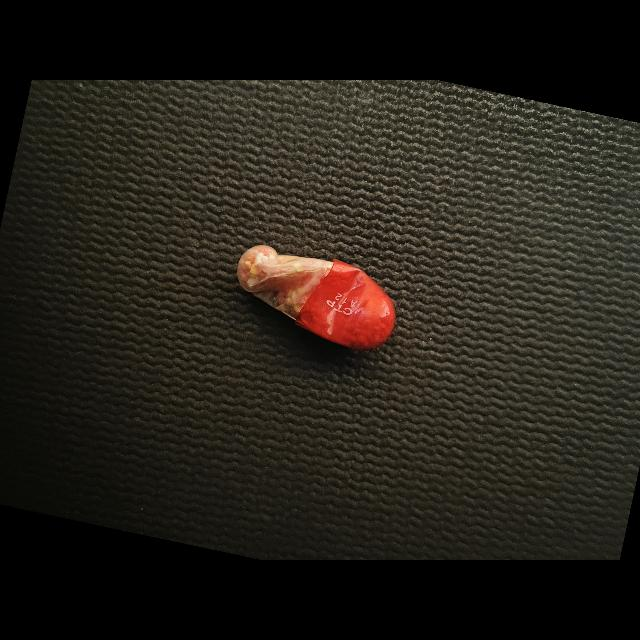Defective Capsule: (237, 245, 396, 349)
